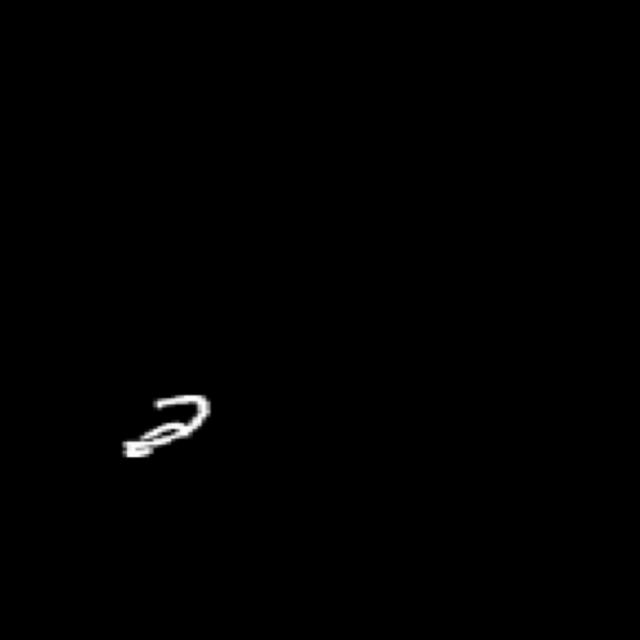two -2-: (125, 386, 236, 459)
